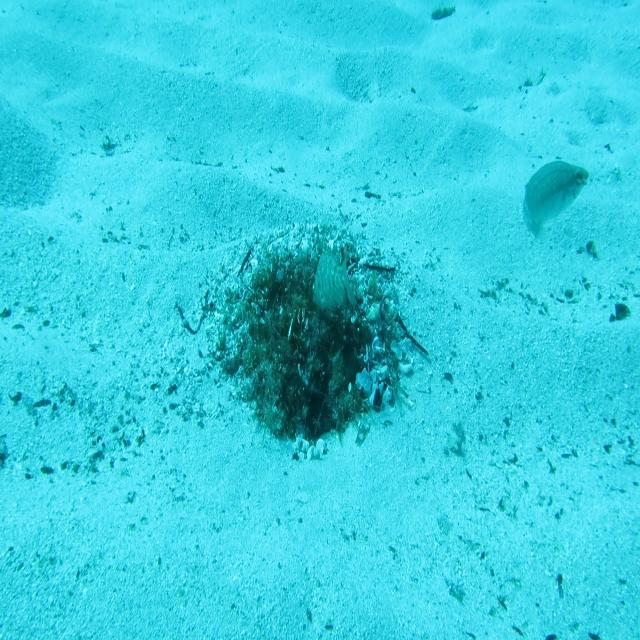NIP_CORE: (306, 238, 363, 323)
core_nest: (279, 276, 335, 317)
female: (515, 156, 590, 248)
nest: (207, 208, 427, 466)
vegetation: (429, 0, 458, 24), (610, 298, 629, 326)
